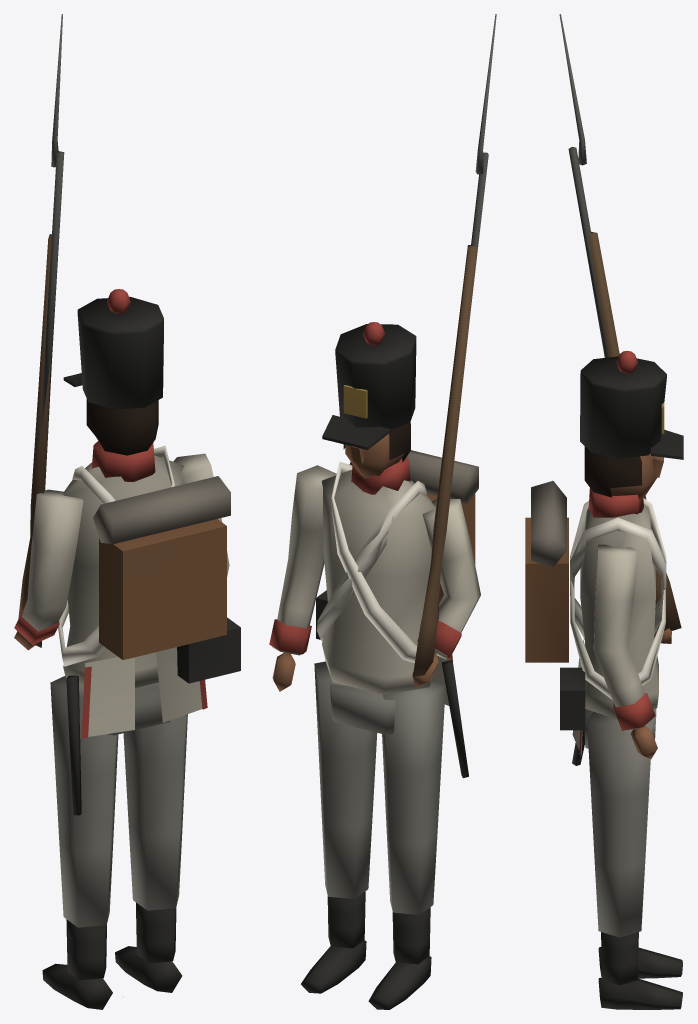
The model's file is persona_realista_1817_lod.glb.
The picture shows the model from 3 angles, left to right: view 1: azimuth 30°, elevation 25°; view 2: azimuth 150°, elevation 25°; view 3: azimuth 270°, elevation 25°; orthographic projection. The views are drawn at different scales.
Visible parts, largest first — view 1: persona_realista_1817_lod; view 2: persona_realista_1817_lod; view 3: persona_realista_1817_lod.
Part boxes in pixels (<box>): persona_realista_1817_lod: <box>14,14,240,1009</box>; persona_realista_1817_lod: <box>269,14,496,1009</box>; persona_realista_1817_lod: <box>525,14,683,1009</box>.
Bounding box in the file's own units: 0.5867 × 2.84 × 0.435.
